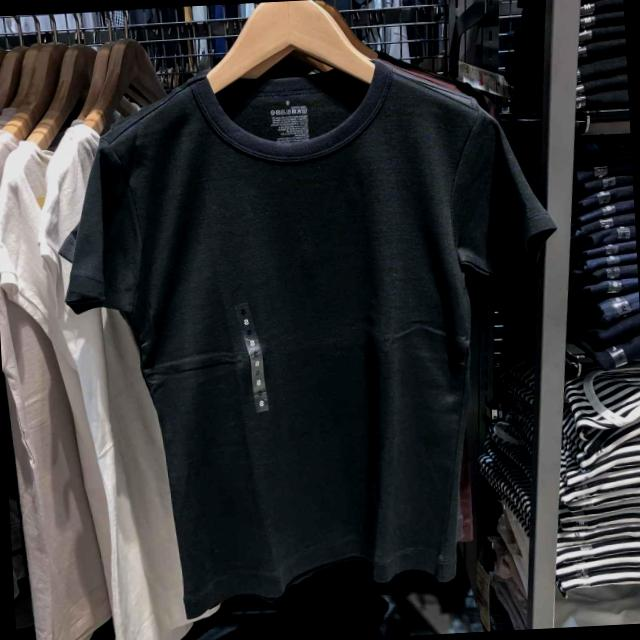Tshirt: (63, 59, 568, 628)
